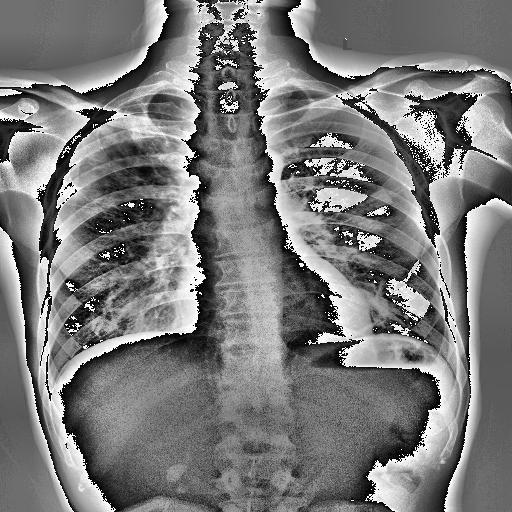13- Pulmonary fibrosis: (58, 108, 188, 248), (56, 96, 200, 212), (54, 107, 168, 207), (348, 215, 409, 232)
6- Infiltration: (56, 96, 200, 212), (354, 215, 398, 233)
